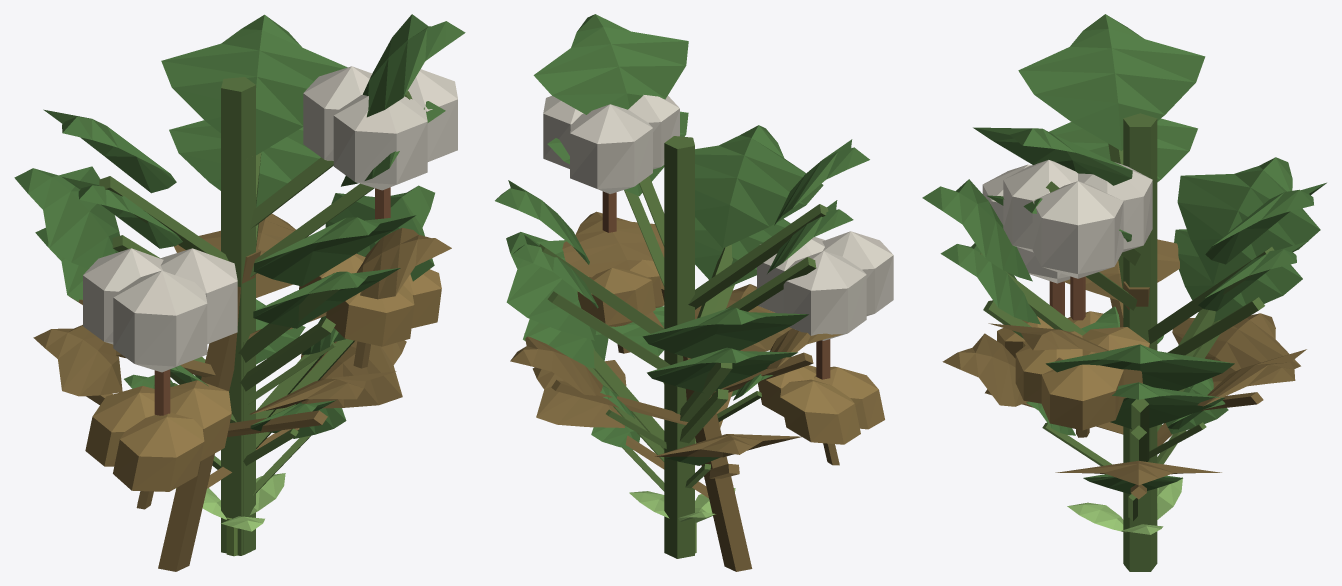
File: summer_cotton.glb
3 views of the same model, side by side, from view 1: azimuth 30°, elevation 25°; view 2: azimuth 150°, elevation 25°; view 3: azimuth 270°, elevation 25° (orthographic). The views are drawn at different scales.
Parts seen in each view (by area): view 1: stage3, dead, stage2, stage1, stage0; view 2: stage3, dead, stage2, stage1, stage0; view 3: stage3, dead, stage2, stage1, stage0.
Boxes of the visible parts, box(x1,y1,x2,y2) form: stage3: box(14, 14, 465, 555); dead: box(33, 213, 451, 571); stage2: box(35, 101, 445, 555); stage1: box(124, 299, 346, 554); stage0: box(176, 473, 285, 556); stage3: box(495, 14, 893, 558); dead: box(510, 211, 884, 571); stage2: box(512, 111, 853, 461); stage1: box(591, 306, 772, 491); stage0: box(629, 488, 735, 553); stage3: box(922, 14, 1326, 571); dead: box(942, 239, 1306, 499); stage2: box(940, 118, 1308, 570); stage1: box(1026, 306, 1228, 568); stage0: box(1067, 477, 1182, 534).
Bounding box in the file's own units: 0.6287 × 0.8124 × 0.5869.
